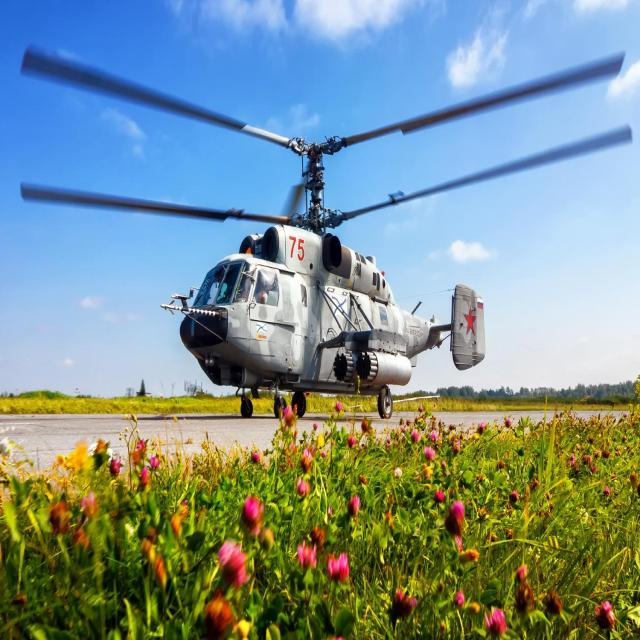MIL_HELO: (4, 29, 640, 417)
